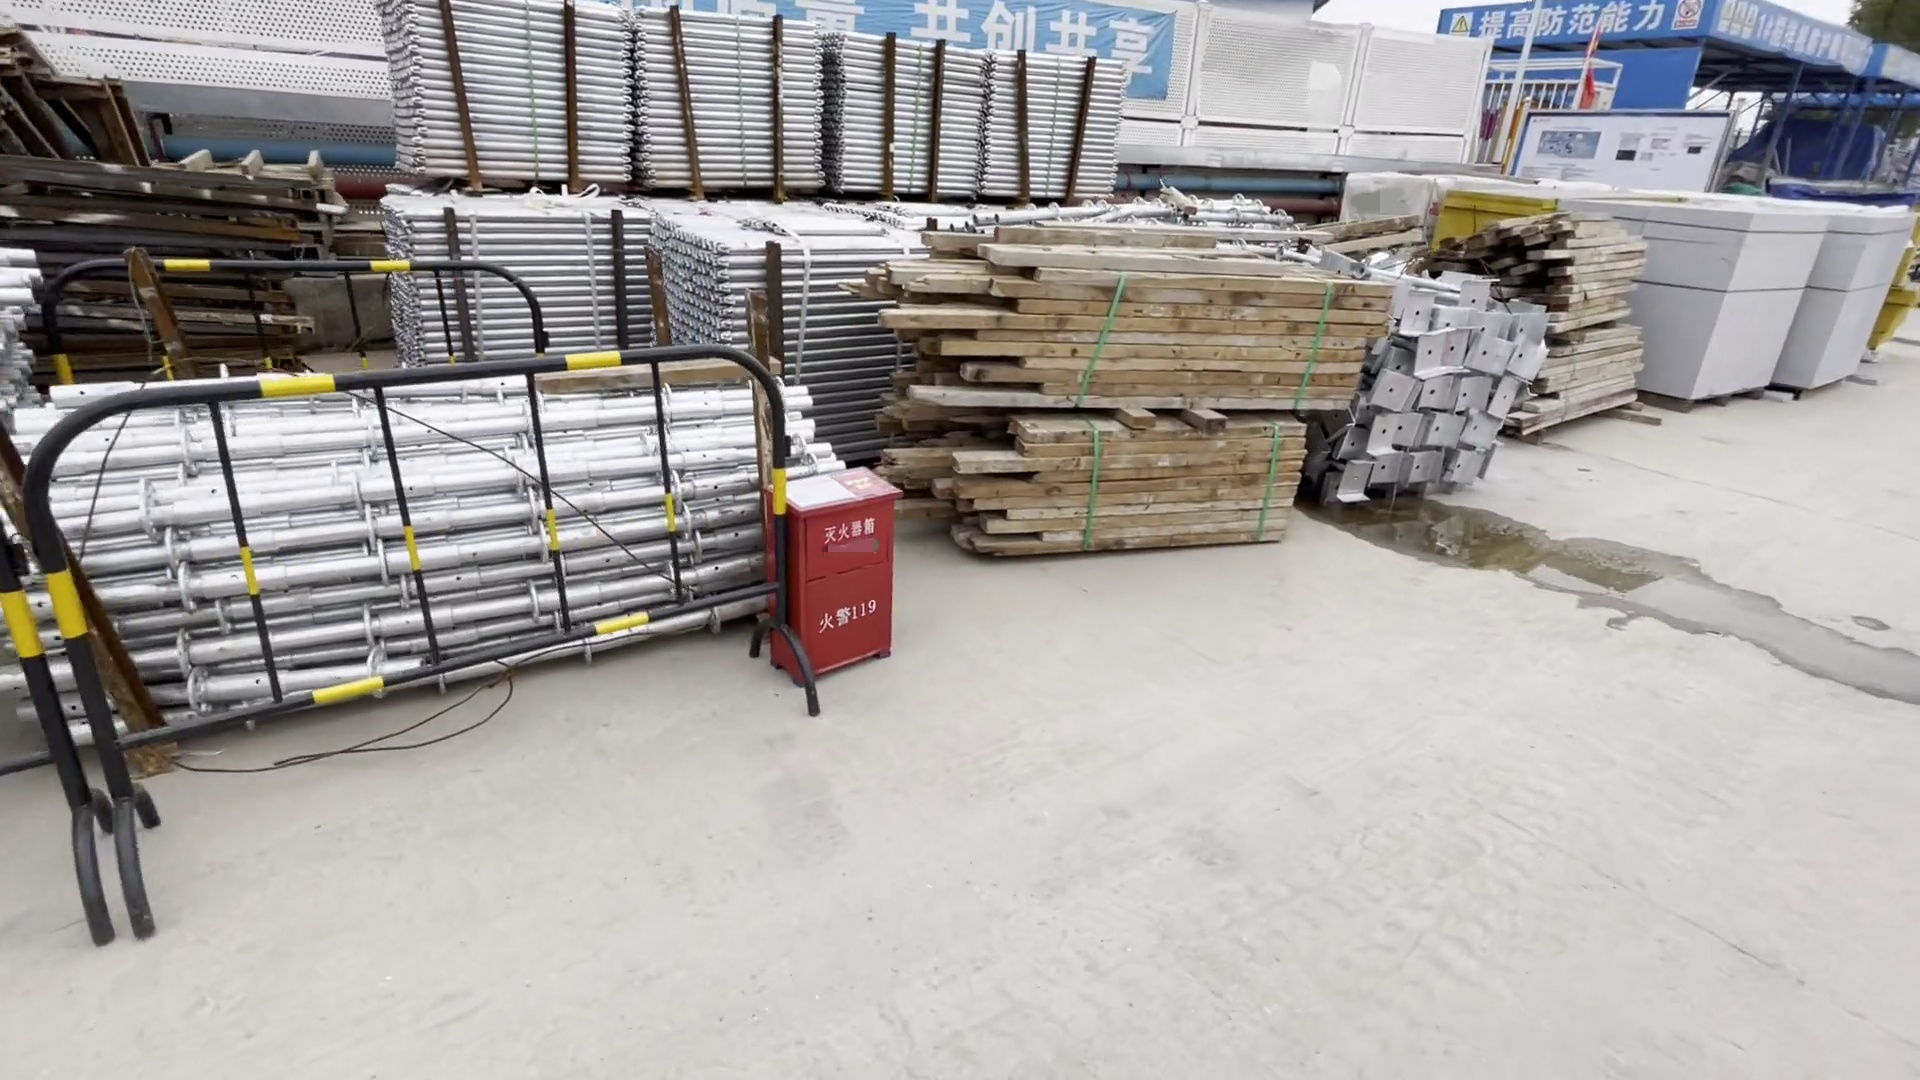brick: (1609, 204, 1915, 409)
scaffold: (1, 342, 808, 690), (371, 7, 1124, 199), (369, 183, 898, 407)
slogan: (582, 1, 1183, 111)
wood: (903, 239, 1294, 538), (1523, 225, 1644, 425)
